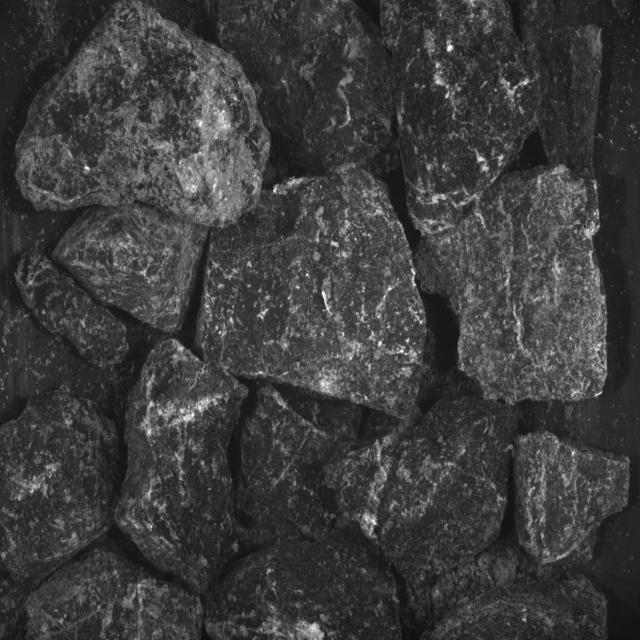Stones: (197, 167, 426, 419), (16, 3, 271, 227), (416, 166, 607, 404), (382, 1, 540, 235), (326, 398, 517, 588), (116, 340, 247, 593), (216, 1, 399, 177), (1, 387, 119, 586), (206, 528, 402, 640), (52, 205, 209, 333), (27, 550, 204, 640), (237, 385, 337, 544), (515, 433, 631, 564), (16, 253, 130, 368), (432, 577, 607, 640)
